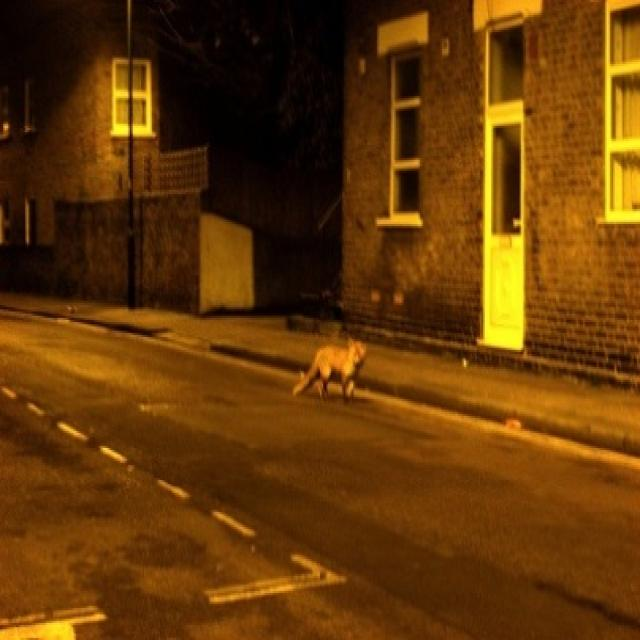Cat: (295, 311, 377, 424)
